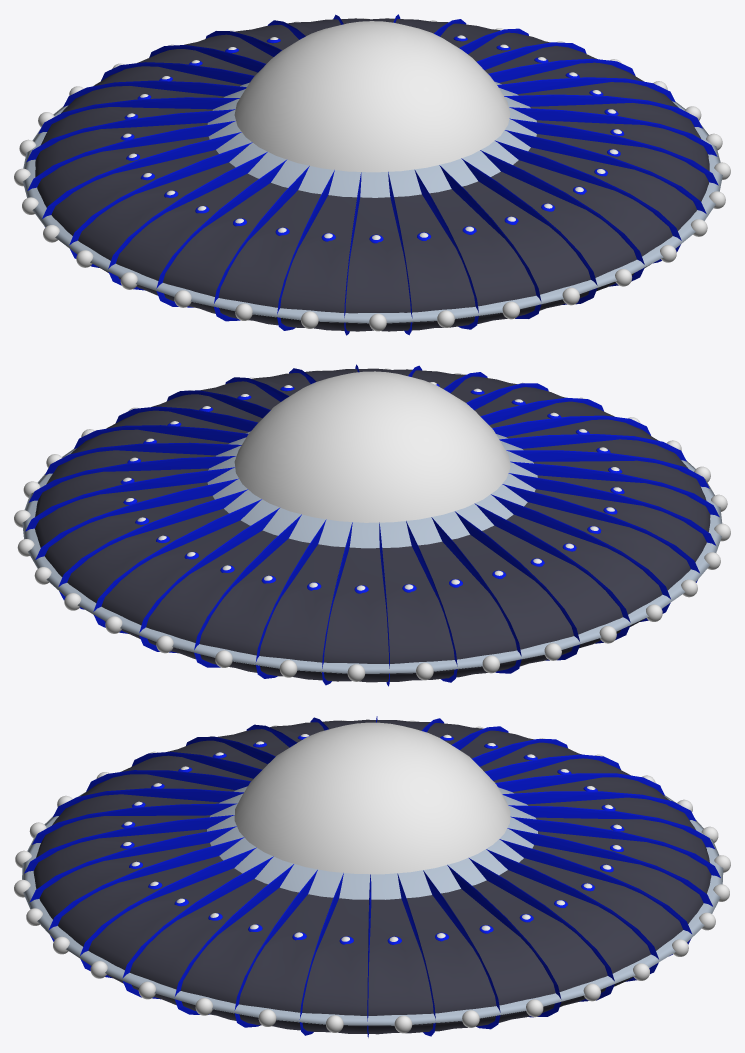
File: ufoTestBuild.fbx
3 views of the same model, one above another, from view 1: azimuth 30°, elevation 25°; view 2: azimuth 150°, elevation 25°; view 3: azimuth 270°, elevation 25° (orthographic).
Visible parts, largest first — view 1: ufo; view 2: ufo; view 3: ufo.
Boxes of the visible parts, <box> form: ufo: <box>14,14,730,335</box>; ufo: <box>14,364,730,686</box>; ufo: <box>14,716,730,1037</box>.
Bounding box in the file's own units: 586 × 253 × 586.
